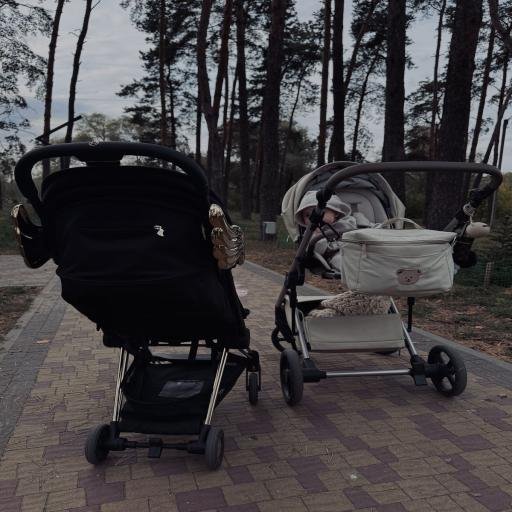people: (12, 142, 261, 469), (272, 162, 502, 405)
